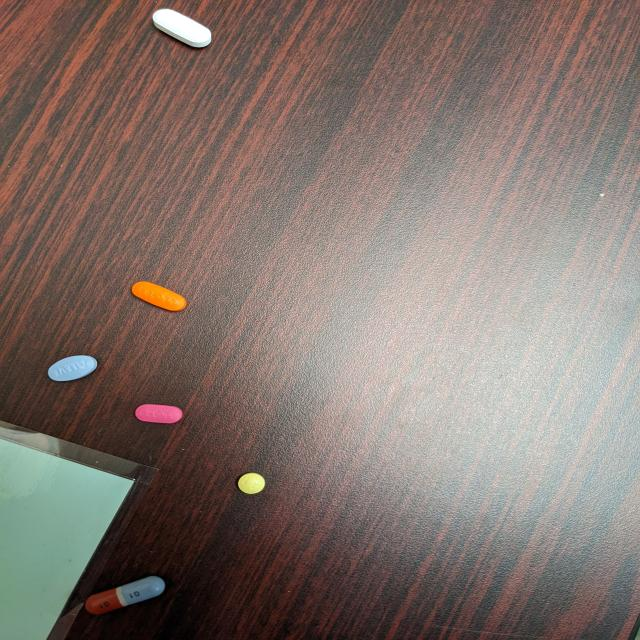non-organic waste: (84, 575, 166, 615), (151, 8, 213, 48), (131, 280, 187, 313), (47, 354, 98, 383), (134, 404, 184, 424), (236, 471, 266, 495)
